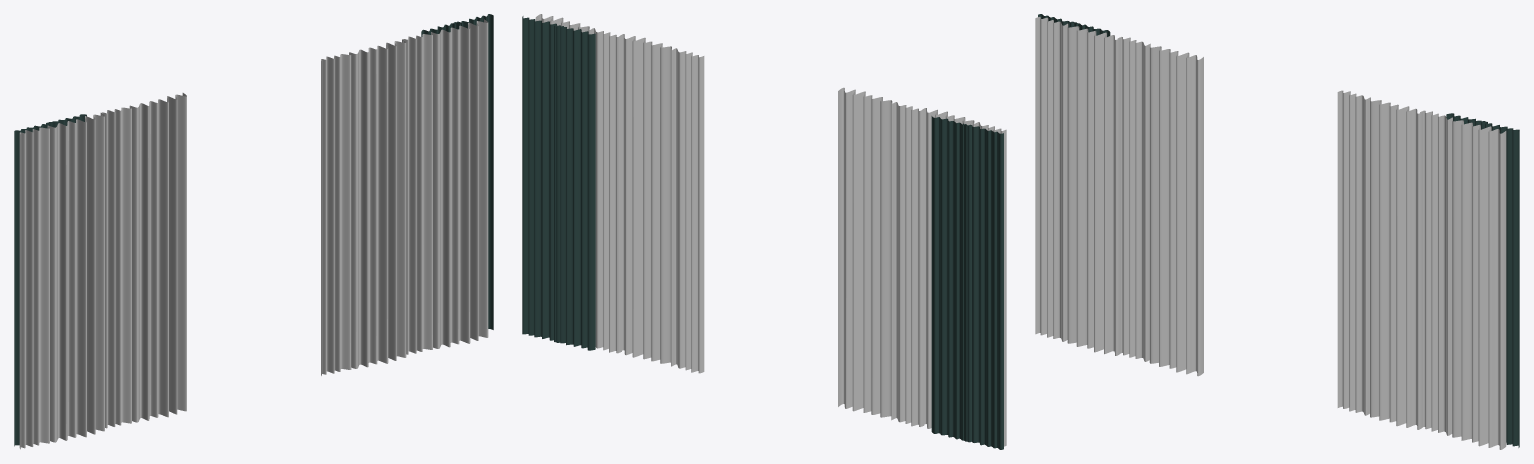
The model's file is Zavjesa, soba1.FBX.
The picture shows the model from 3 angles, left to right: view 1: azimuth 30°, elevation 25°; view 2: azimuth 150°, elevation 25°; view 3: azimuth 330°, elevation 25°; orthographic projection.
Visible parts, largest first — view 1: Zavjesa_002, Zavjesa_001; view 2: Zavjesa_002, Zavjesa_001; view 3: Zavjesa_002, Zavjesa_001.
Part boxes in pixels (<box>): Zavjesa_002: <box>19,19,488,449</box>; Zavjesa_001: <box>14,14,493,446</box>; Zavjesa_002: <box>535,14,1006,446</box>; Zavjesa_001: <box>522,16,1003,449</box>; Zavjesa_002: <box>1035,17,1506,449</box>; Zavjesa_001: <box>1038,14,1519,447</box>.
Bounding box in the file's own units: 182 × 114 × 7.04.
